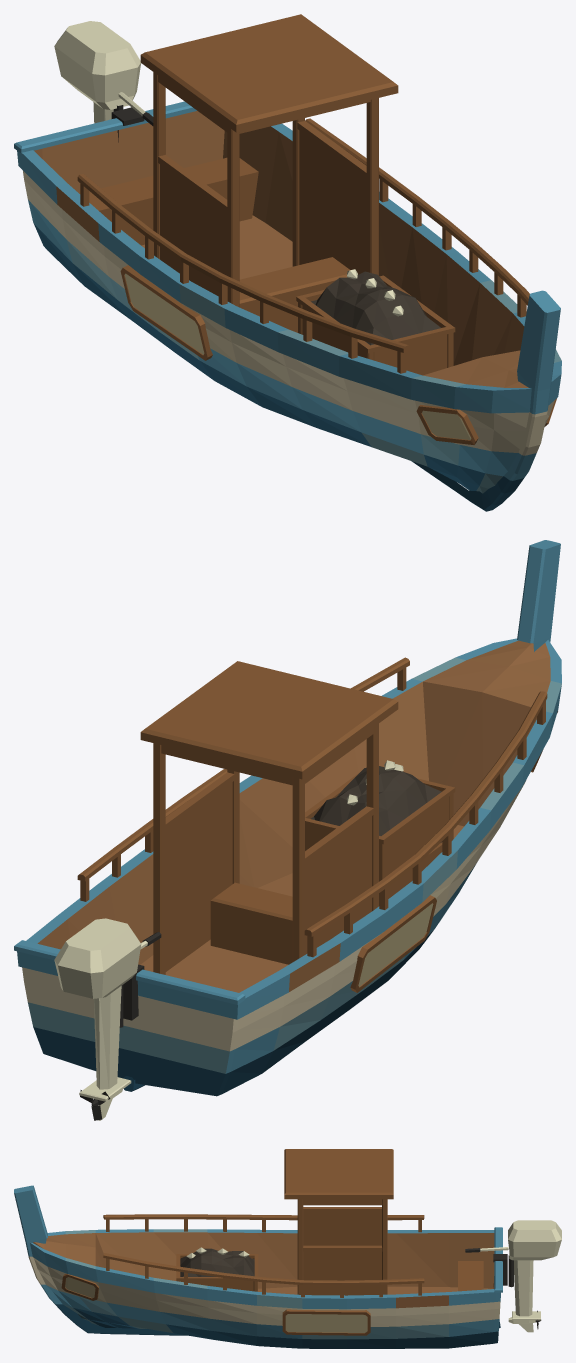
Rendered from hanga-roa-fishing-boat.glb.
3 renders of one model, top to bottom at view 1: azimuth 30°, elevation 25°; view 2: azimuth 150°, elevation 25°; view 3: azimuth 270°, elevation 25°, orthographic. The views are drawn at different scales.
Visible parts, largest first — view 1: boat-body, outboard-mesh, net-mesh; view 2: boat-body, outboard-mesh, net-mesh; view 3: boat-body, outboard-mesh, net-mesh.
Part boxes in pixels (<box>): boat-body: <box>14,14,561,511</box>; outboard-mesh: <box>54,21,153,125</box>; net-mesh: <box>311,269,440,345</box>; boat-body: <box>14,540,561,1096</box>; outboard-mesh: <box>54,918,161,1120</box>; net-mesh: <box>311,760,442,842</box>; boat-body: <box>14,1149,507,1348</box>; outboard-mesh: <box>465,1220,561,1332</box>; net-mesh: <box>180,1247,254,1276</box>.
Bounding box in the file's own units: 2.4 × 2.68 × 8.11.
